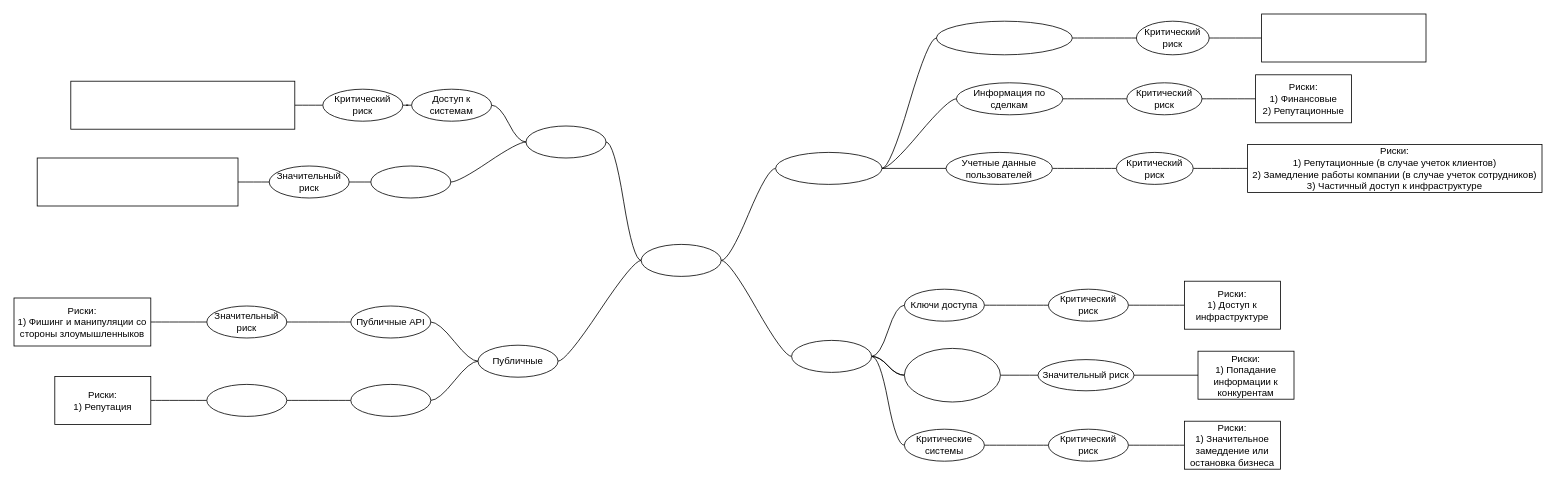
This 1556x483 diagram has some shape labels left out. Here are the shapes that lost their labels. From the top down, the centre of each, then its label:
the point at 1004,37: Персональные данные клиентов
the point at 1343,37: Риски: 1) Нарушение 152-ФЗ, штрафы 2) Судебные иски 3) Репутация
the point at 182,104: Риски: 1) Утечка информации 2) Нарушение работы систем
the point at 565,141: Внутренние
the point at 137,181: Риски: 1) Замедление работы компании 2) Затраты на восстановление информации
the point at 410,181: Отчеты
the point at 828,168: Конфиденциальные
the point at 680,260: Безопасность данных
the point at 831,356: Секретные
the point at 952,375: Стратегически важная информация
the point at 246,400: Низкий риск
the point at 390,400: Описание недвижимости
